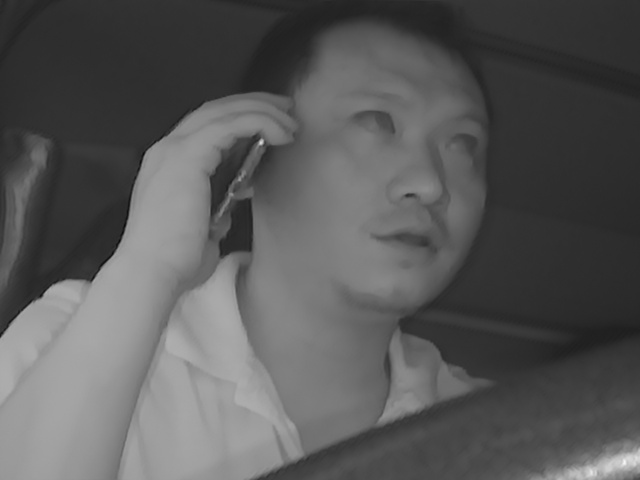hand: (137, 91, 267, 282)
